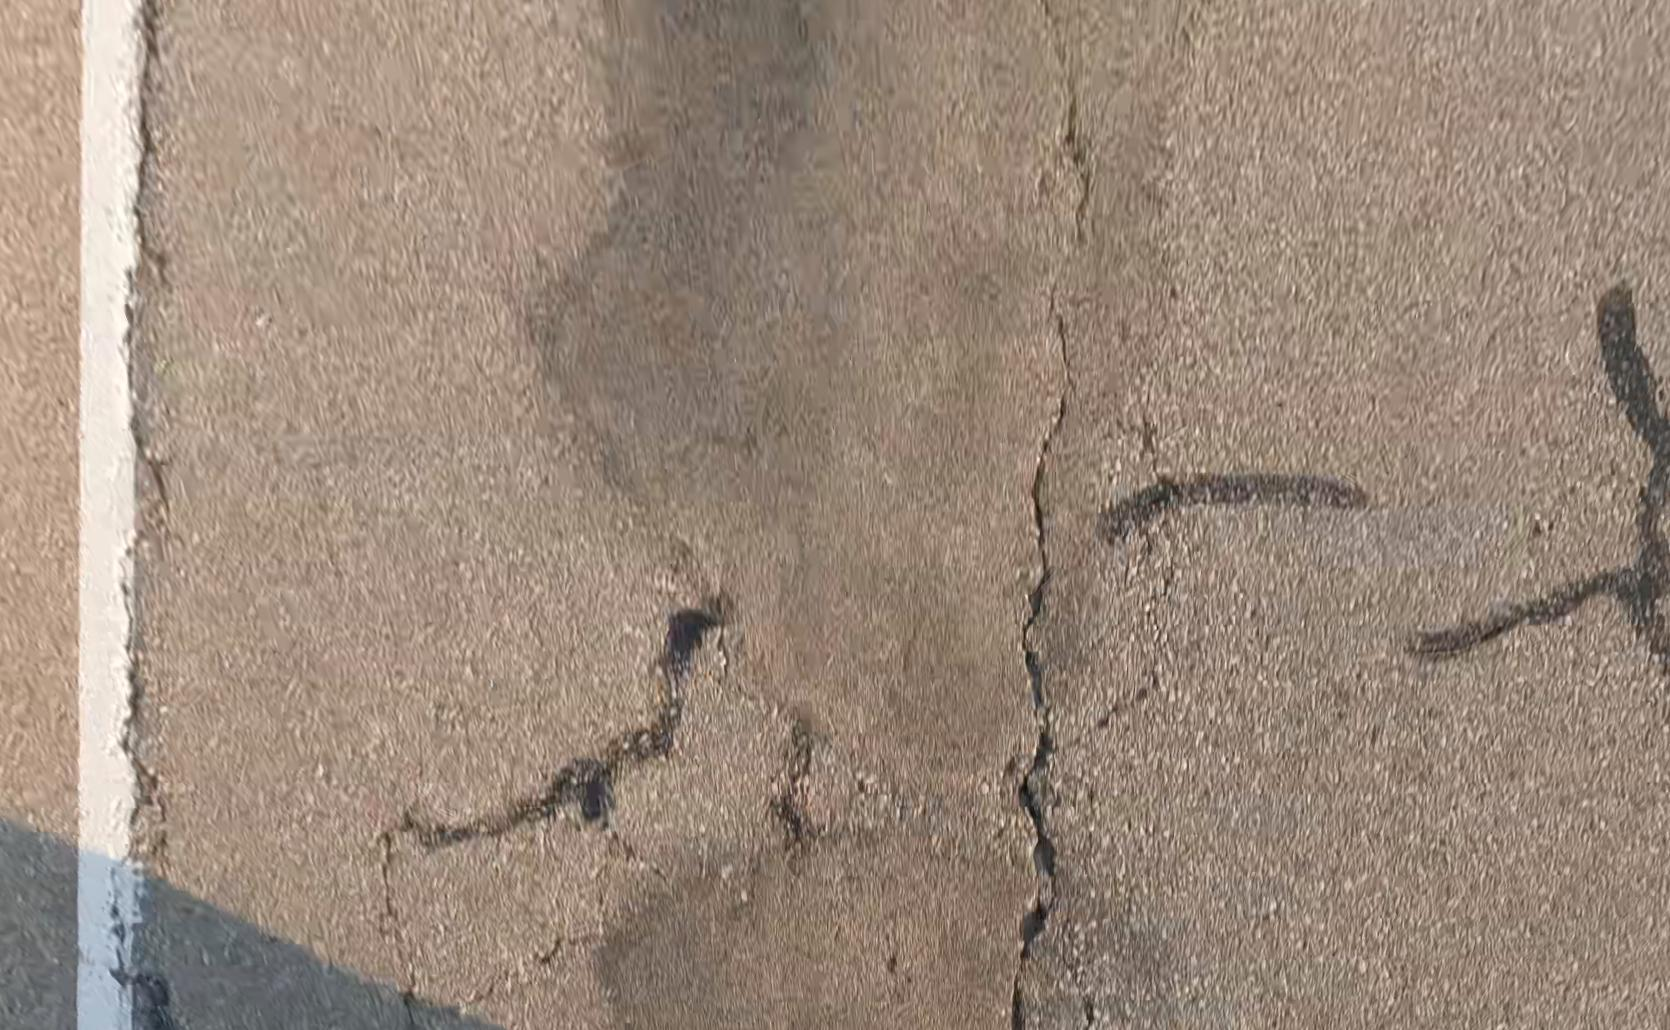pothole_patch_poor: (537, 0, 1207, 790), (595, 839, 1187, 1030)
